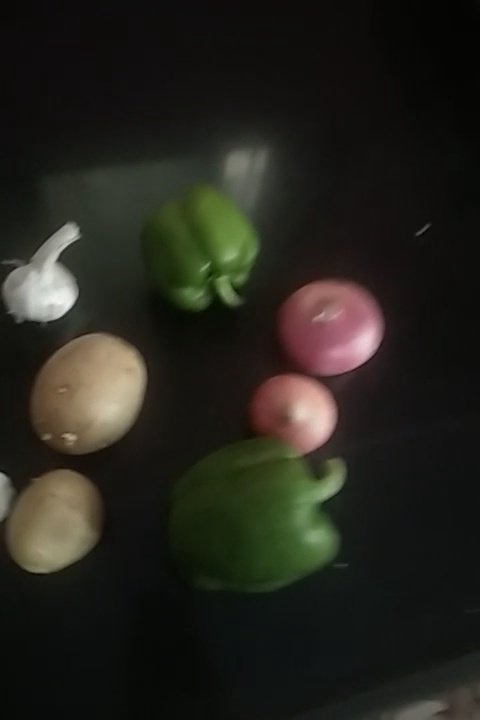capsicum: (171, 435, 351, 596), (133, 177, 263, 307)
garlic: (7, 218, 85, 343)
onion: (284, 280, 378, 381), (259, 373, 343, 452)
potato: (40, 336, 143, 458), (10, 466, 102, 588)
